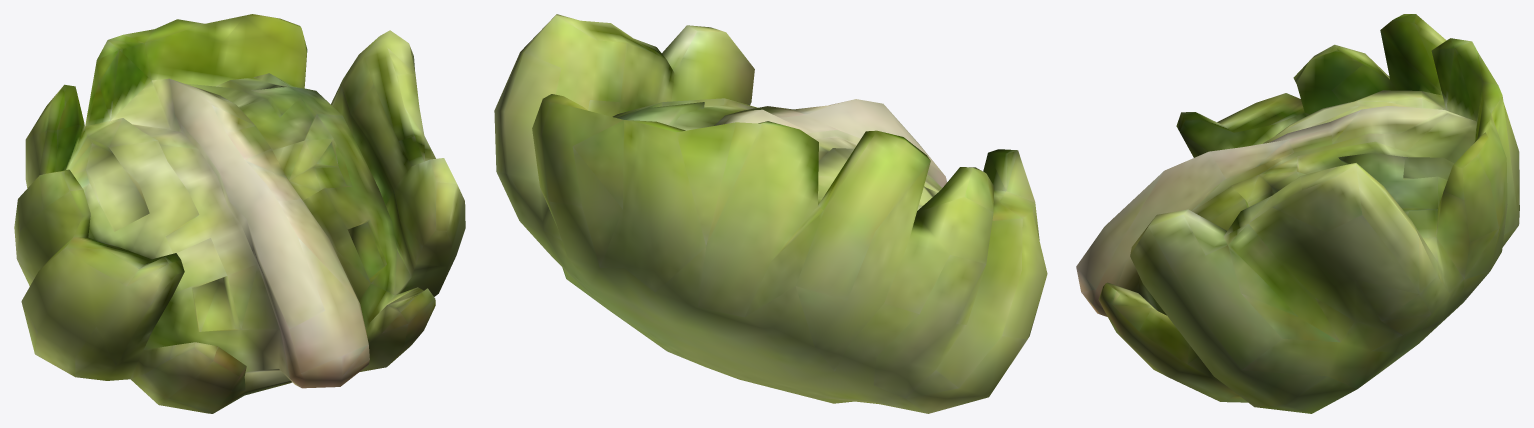
The model's file is cabbage.glb.
The picture shows the model from 3 angles, left to right: view 1: azimuth 30°, elevation 25°; view 2: azimuth 150°, elevation 25°; view 3: azimuth 270°, elevation 25°; orthographic projection. The views are drawn at different scales.
Parts seen in each view (by area): view 1: Cabbage; view 2: Cabbage; view 3: Cabbage.
Boxes of the visible parts, x1=… form: Cabbage: x1=14, y1=14, x2=465, y2=413; Cabbage: x1=494, y1=14, x2=1047, y2=413; Cabbage: x1=1076, y1=14, x2=1519, y2=413.
Size of the model in its own units: 1.85 by 1.26 by 1.66.
1 material, 1 textured.
